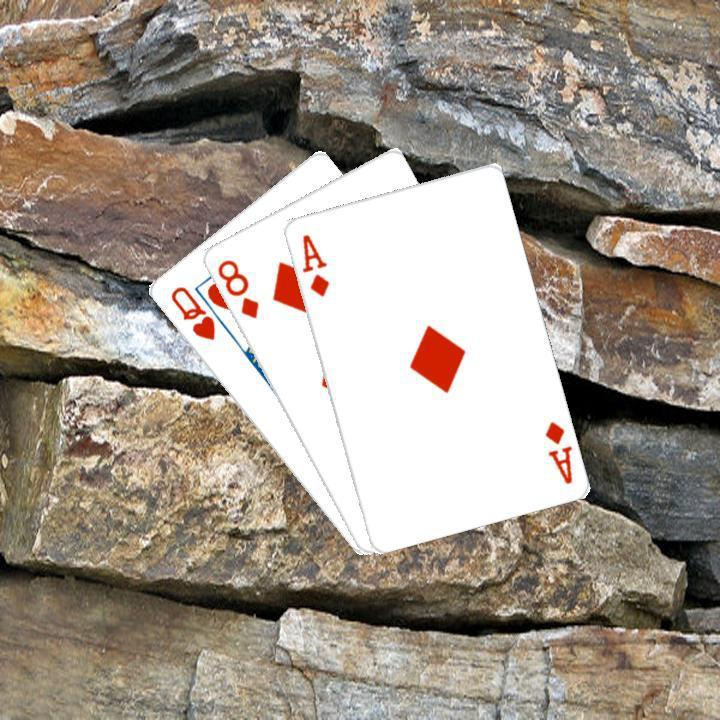8: (212, 255, 261, 321)
A: (297, 229, 331, 299), (540, 417, 574, 486)
Q: (165, 281, 217, 343)
